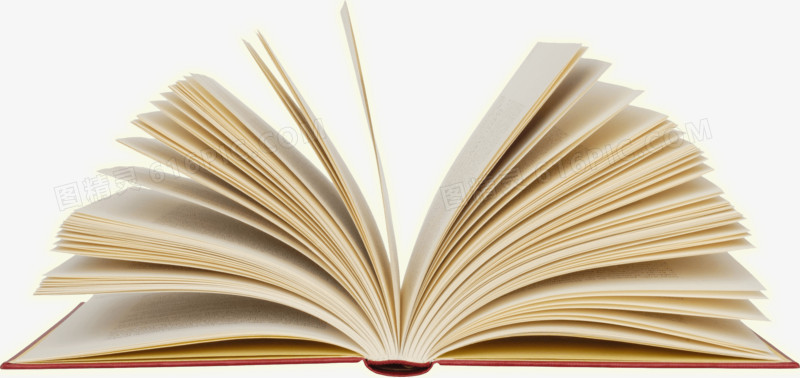book: (12, 12, 796, 378)
